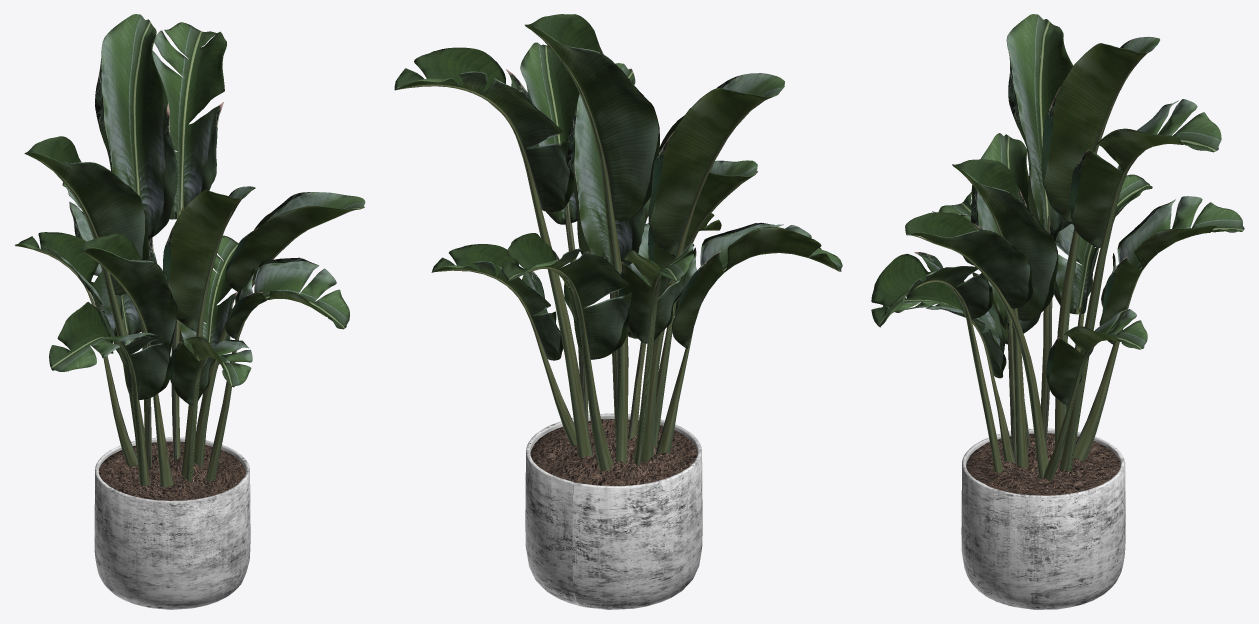
3 views of the same model, side by side, from view 1: azimuth 30°, elevation 25°; view 2: azimuth 150°, elevation 25°; view 3: azimuth 270°, elevation 25° (orthographic). The views are drawn at different scales.
Visible parts, largest first — view 1: G-AUL11_1, G-AUL10_0; view 2: G-AUL11_1, G-AUL10_0; view 3: G-AUL11_1, G-AUL10_0.
Boxes of the visible parts, x1,y1,x2,y2 form: G-AUL11_1: [15, 14, 365, 487]; G-AUL10_0: [94, 437, 250, 609]; G-AUL11_1: [394, 14, 842, 471]; G-AUL10_0: [525, 413, 702, 609]; G-AUL11_1: [871, 14, 1244, 481]; G-AUL10_0: [961, 428, 1125, 609].
Size of the model in its own units: 1.08 by 1.88 by 1.14.
Materials: 5 (5 with a texture image).
